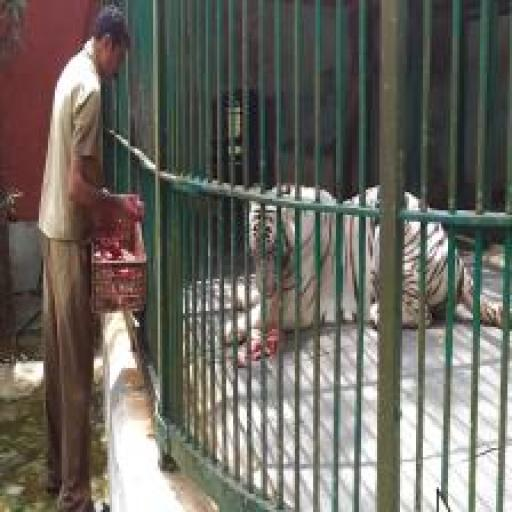Tiger: (222, 183, 511, 345)
